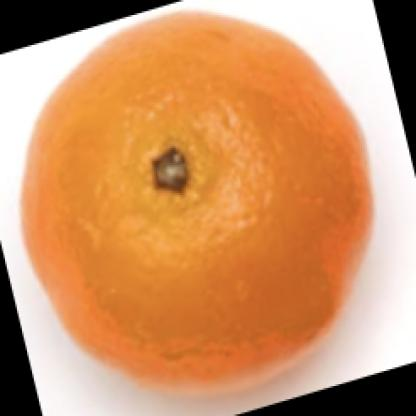fresh: (23, 17, 372, 396)
